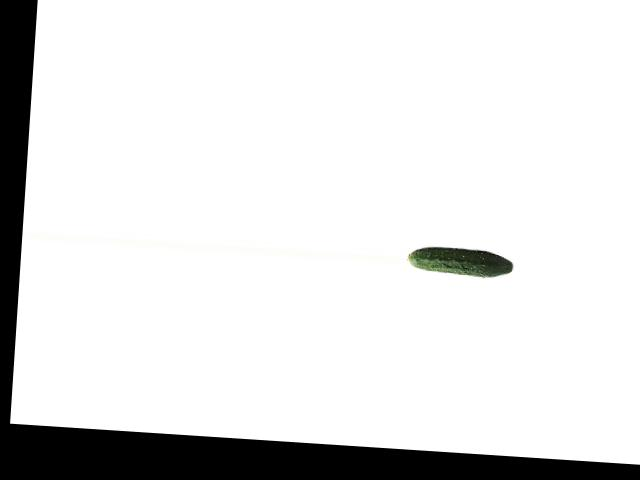cucumber: (407, 245, 514, 278)
